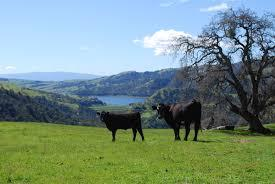cow: (155, 101, 205, 143), (98, 112, 145, 140)
